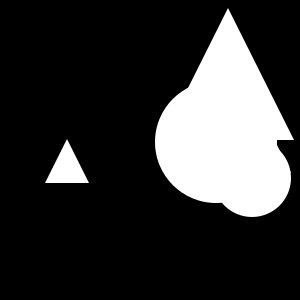rectangle: (155, 81, 277, 203), (213, 139, 291, 217)
triangle: (162, 8, 294, 140), (45, 139, 89, 183), (253, 135, 291, 173)
